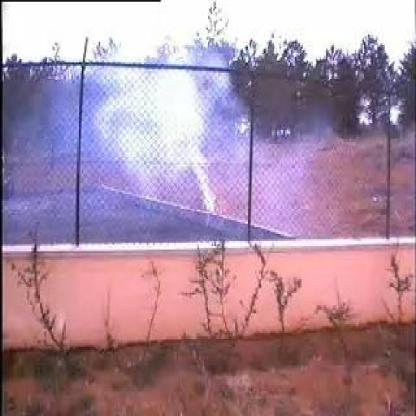-: (53, 60, 246, 233)
